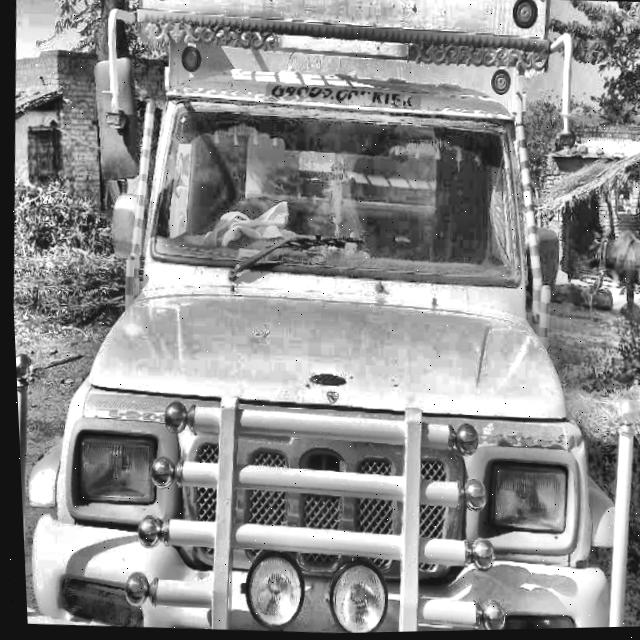light_vehicle: (1, 28, 640, 640)
